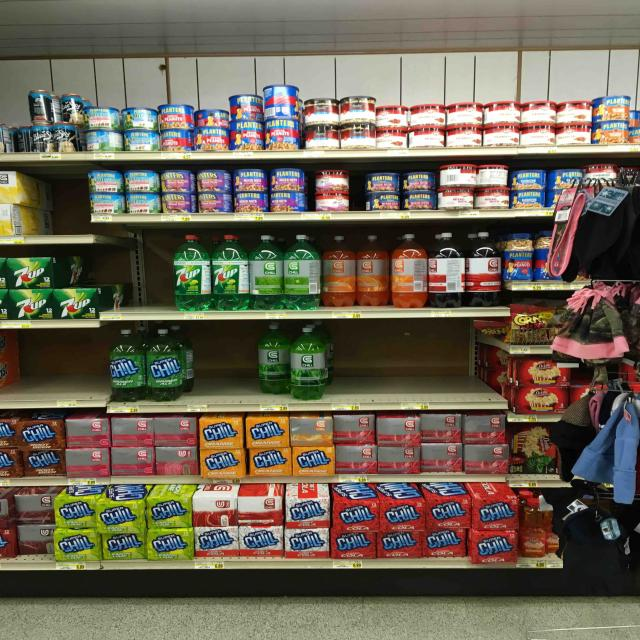void: (352, 321, 392, 412), (392, 320, 428, 412), (431, 320, 468, 409), (471, 320, 503, 410), (28, 330, 64, 408), (141, 230, 172, 320), (67, 328, 102, 406), (220, 324, 251, 411), (190, 321, 219, 414), (111, 231, 138, 321), (60, 171, 86, 244), (33, 171, 57, 244)
